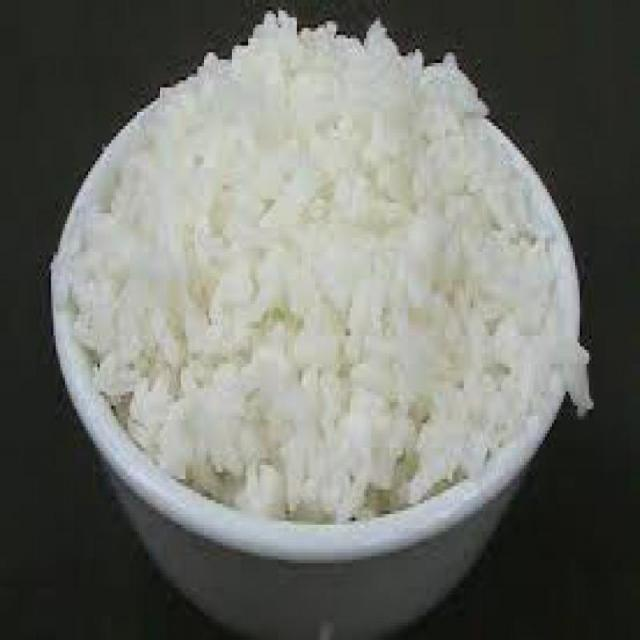rice: (68, 11, 562, 524)
